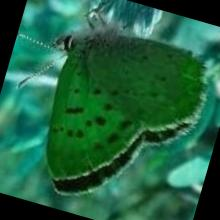butterfly: (47, 26, 206, 193)
